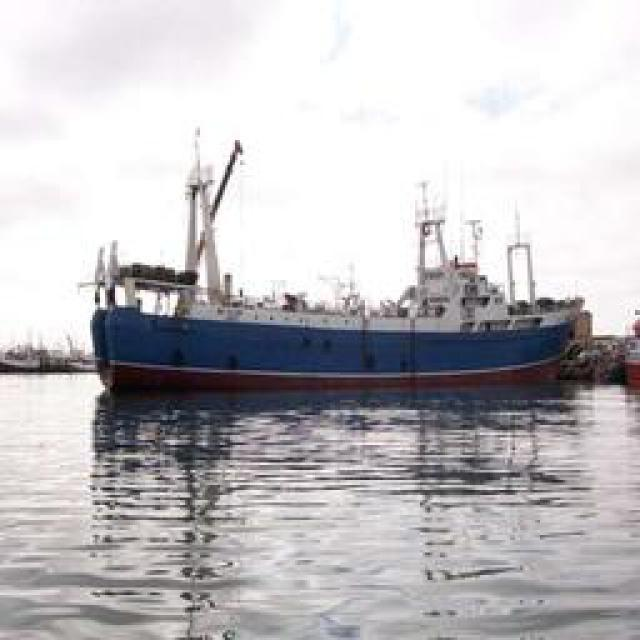Ship: (91, 144, 592, 408)
